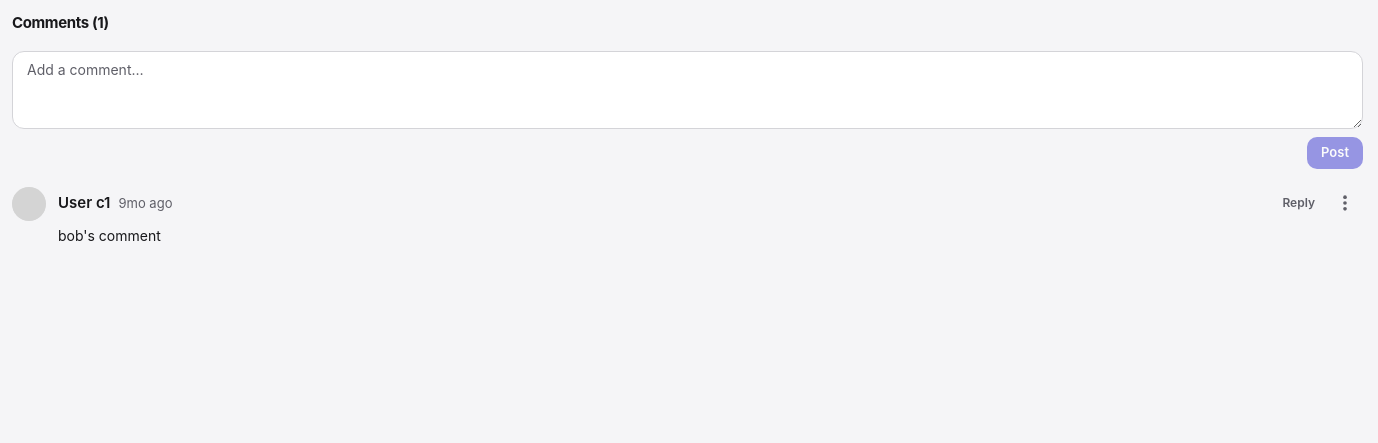
CommentsSection contact actions under the instance messaging gate › drops only Encrypted message when E2EE alone is unavailable
The width and height of the screenshot is (1378, 443).
Click the button named "Comment actions" at [1345, 202], box [1327, 184, 1363, 220]
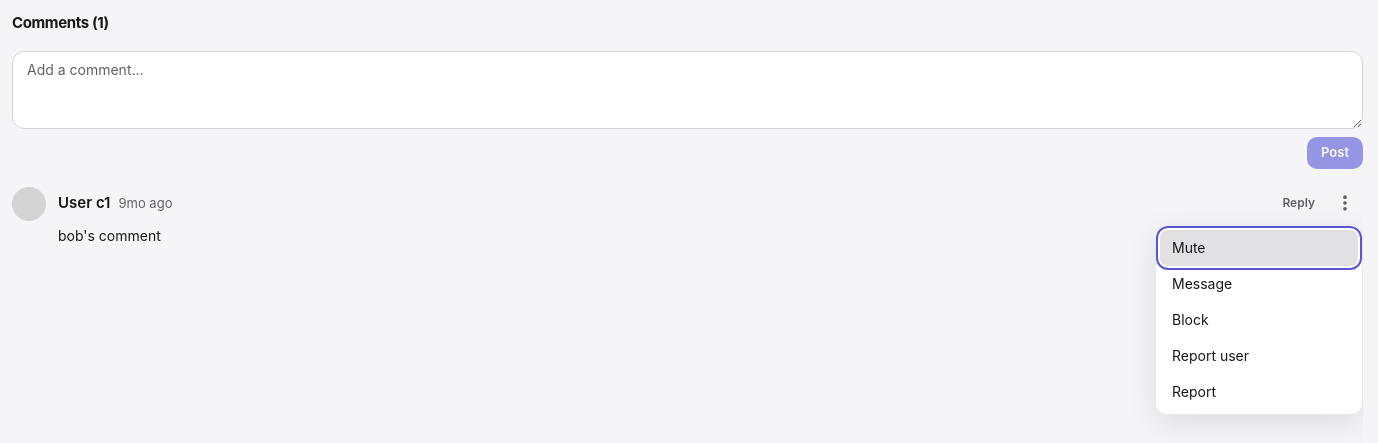
Expected: the menu item "Message" is shown, [1160, 266, 1358, 302]
